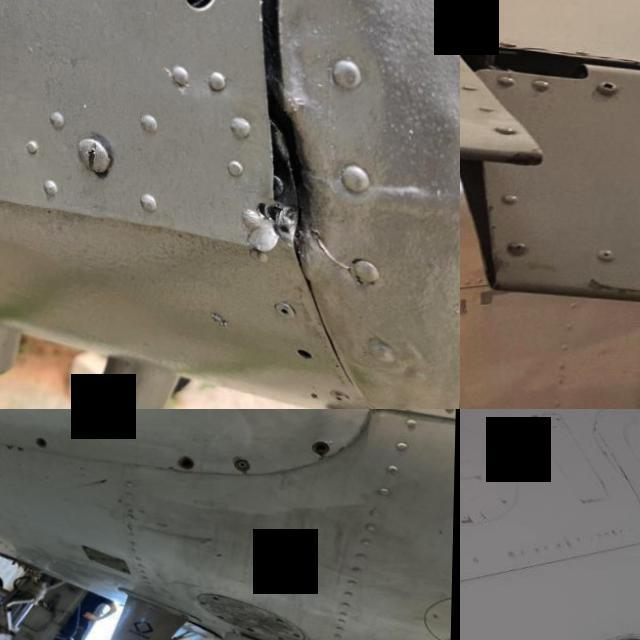Missing_Fastener: (155, 0, 261, 42), (176, 451, 200, 467), (313, 433, 331, 451)
